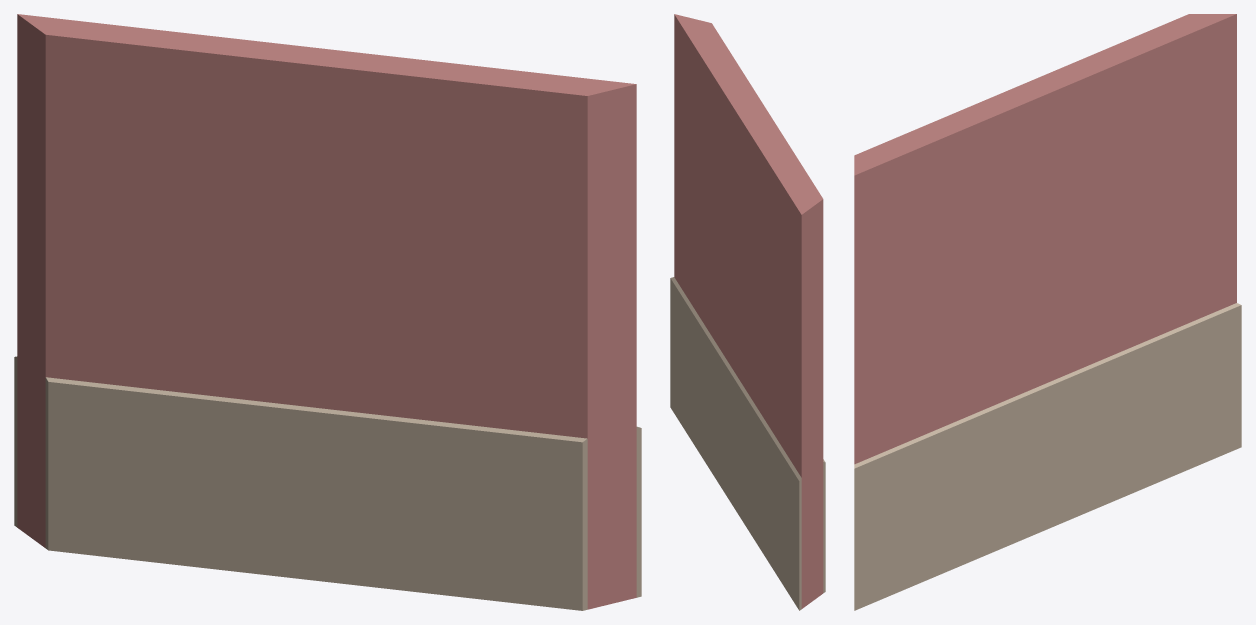
File: wall_3x3_base_diagonal.fbx
3 views of the same model, side by side, from view 1: azimuth 30°, elevation 25°; view 2: azimuth 150°, elevation 25°; view 3: azimuth 270°, elevation 25° (orthographic). The views are drawn at different scales.
Visible parts, largest first — view 1: Cube; view 2: Cube; view 3: Cube.
Boxes of the visible parts, left/top/right/bottom form: Cube: left=14, top=14, right=641, bottom=610; Cube: left=670, top=14, right=825, bottom=610; Cube: left=854, top=14, right=1241, bottom=610.
Size of the model in its own units: 324 by 400 by 324.
